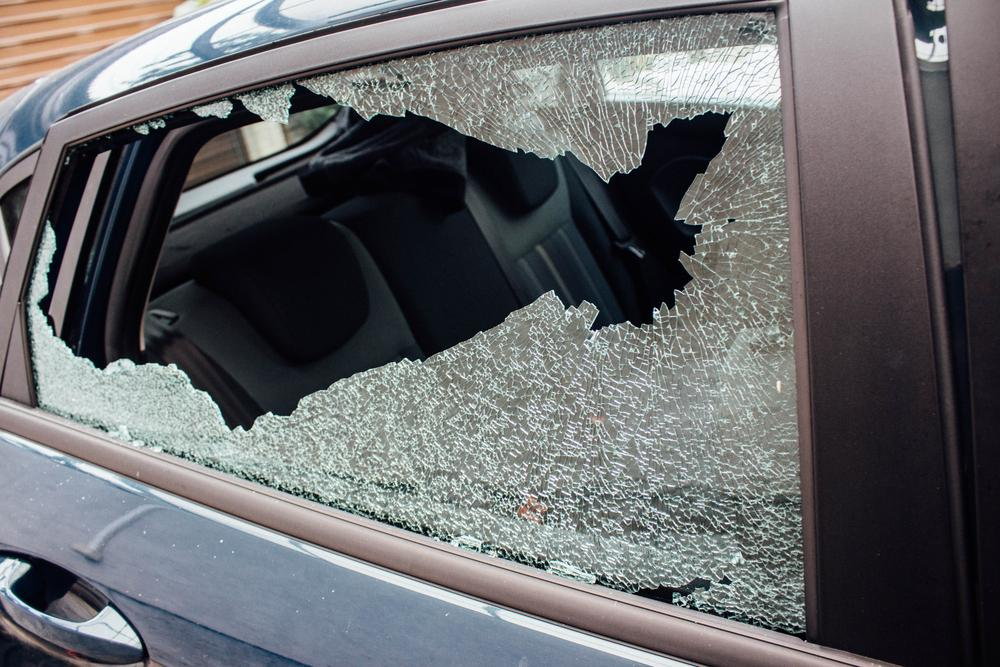glass shatter: (25, 12, 807, 637)
